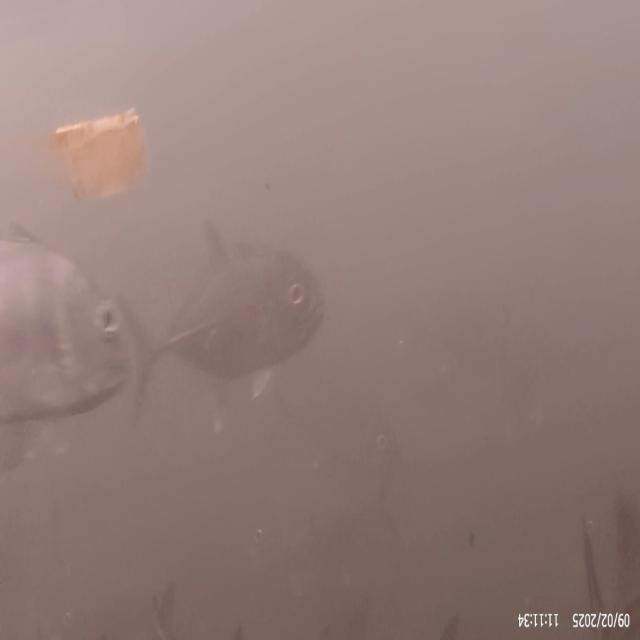ikan: (154, 218, 326, 384), (0, 232, 136, 425)
